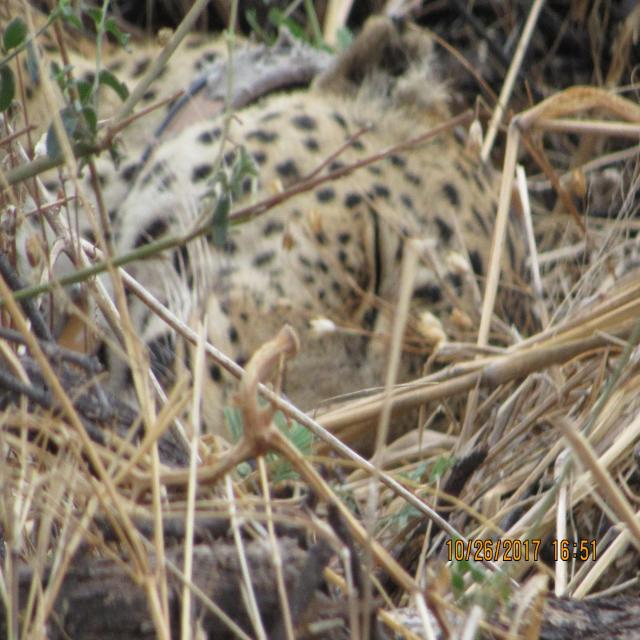Leopard: (7, 21, 530, 440)
